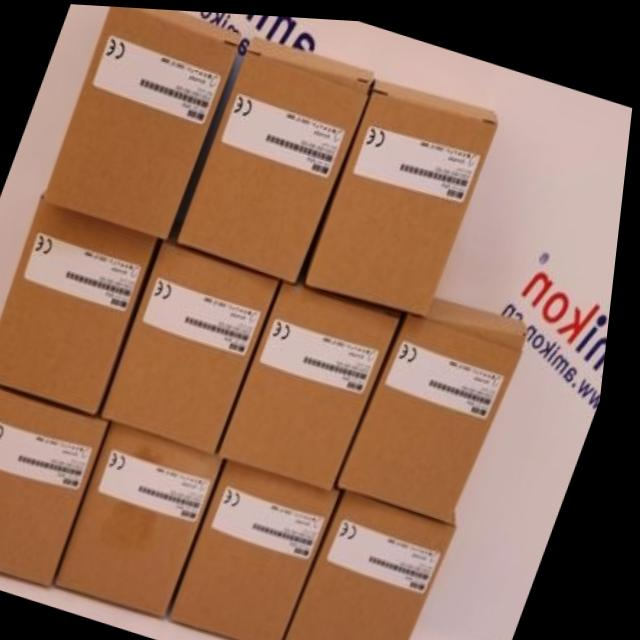box: (180, 32, 375, 281), (310, 76, 501, 311), (48, 5, 242, 236), (343, 289, 533, 519), (225, 276, 407, 487), (111, 239, 290, 448), (0, 197, 163, 411), (65, 418, 235, 616), (184, 457, 352, 640), (296, 488, 467, 640), (0, 382, 119, 582)
